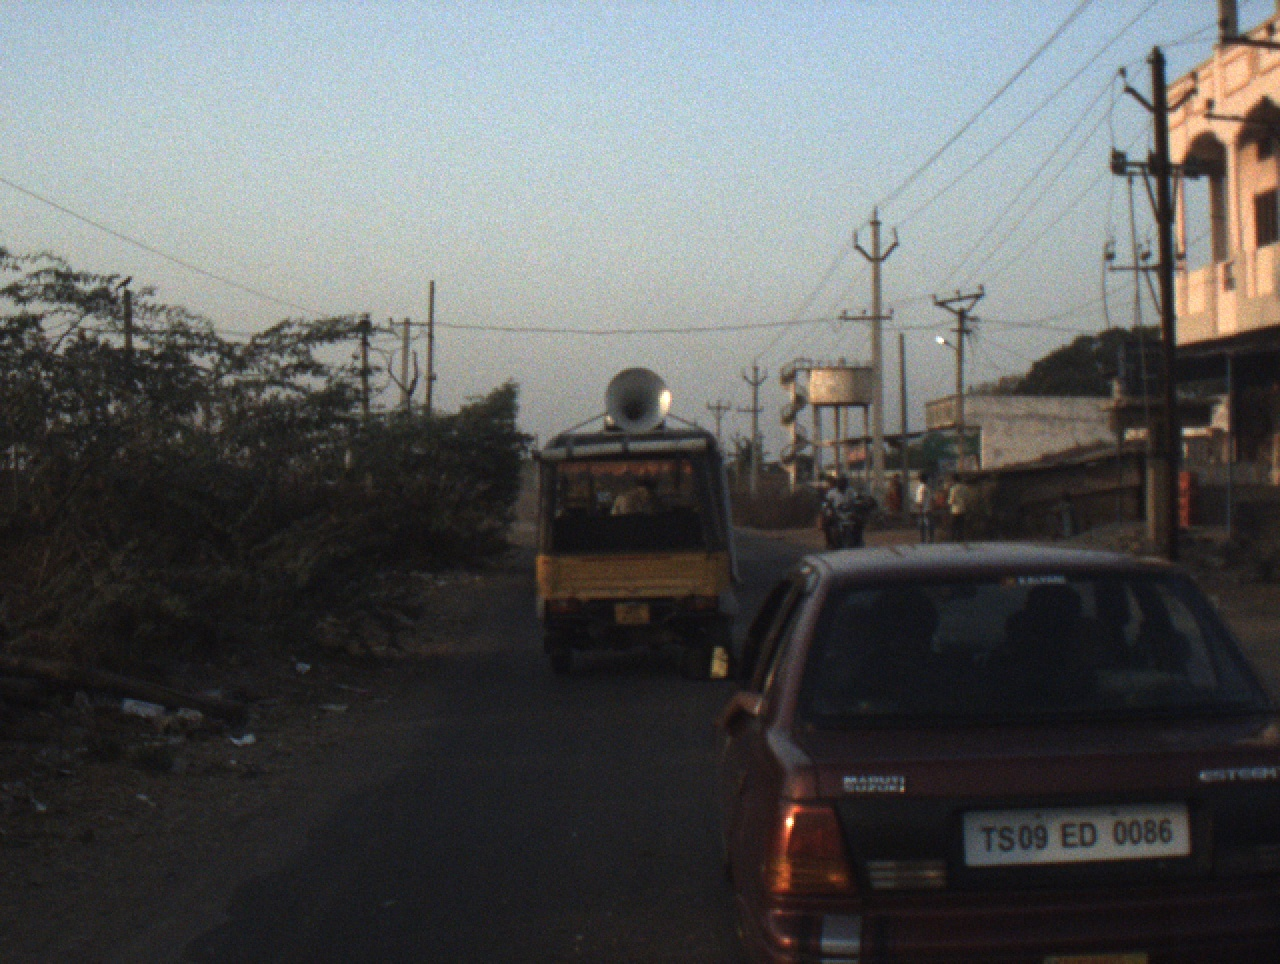autorickshaw: (520, 369, 752, 683)
car: (683, 538, 1275, 963)
motorcycle: (817, 492, 873, 556)
person: (943, 464, 973, 544), (914, 469, 939, 546), (1049, 491, 1076, 544), (881, 469, 908, 516)
rider: (823, 471, 873, 548)
